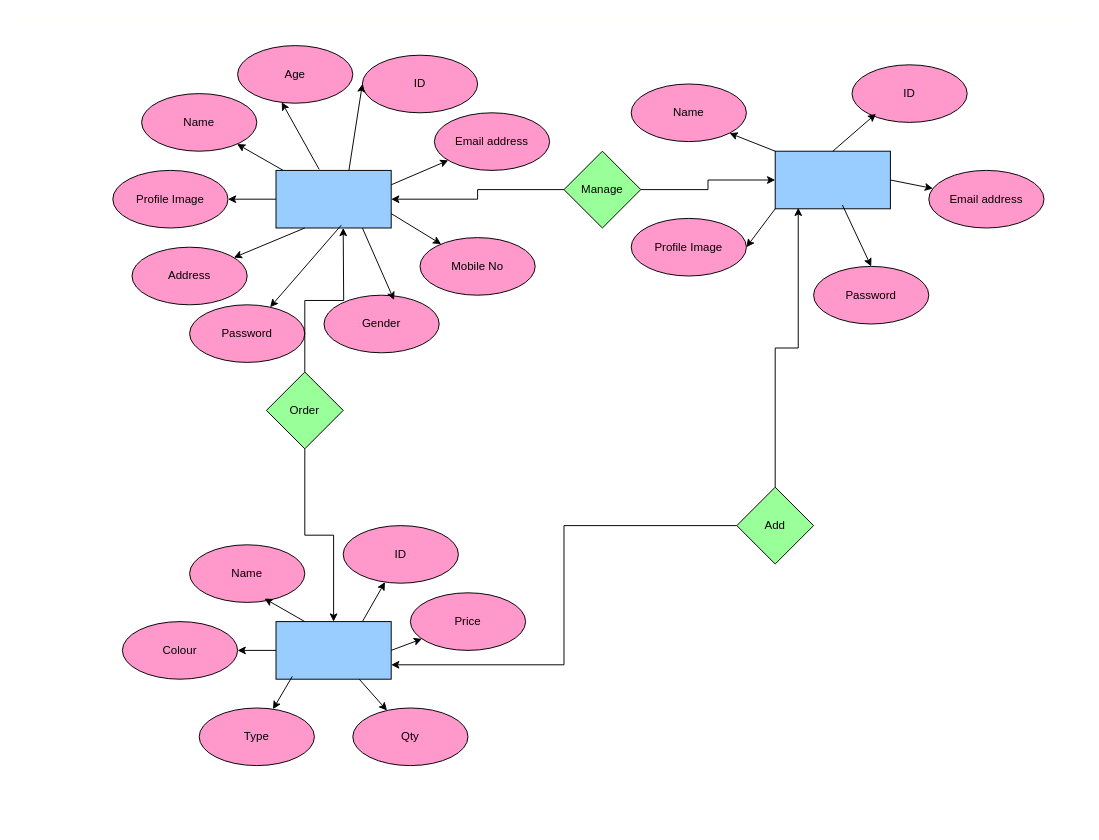
The diagram is 1099 pixels wide and 840 high, and some of its shapes have lost their labels. The box of each missing label's shape, as (x1, y1, x2, y2) in pixels:
Admin: (774, 150, 890, 209)
Item: (275, 621, 391, 679)
User: (275, 169, 391, 228)
